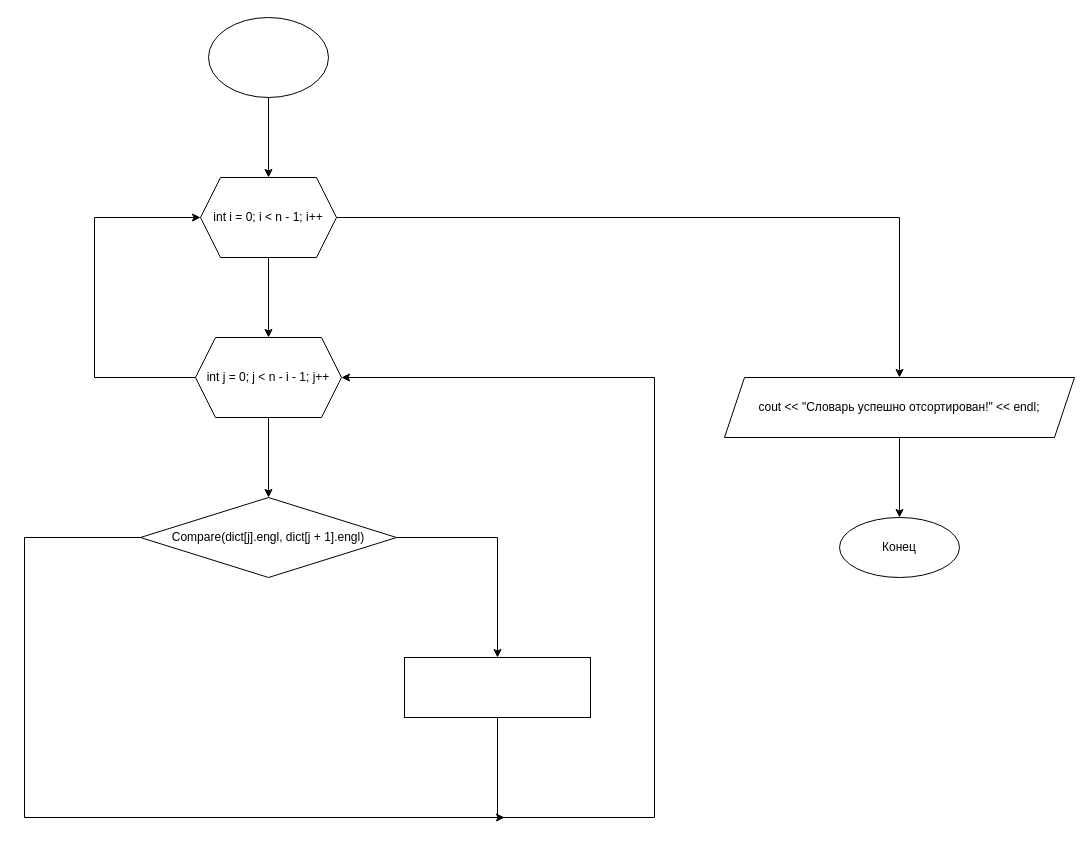
The diagram is 1092 pixels wide and 843 high, and some of its shapes have lost their labels. The centre of each missing label's shape, as x and y in pixels:
swap(dict[j], dict[j + 1]);: the point at 497,687
Начало: the point at 268,57
